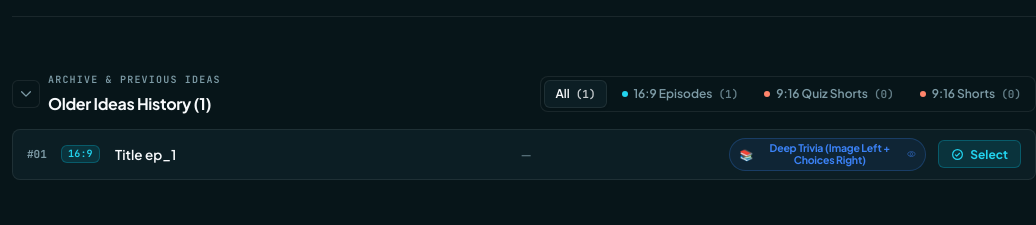
Test: TopicHistorySection › renders empty filter state when no topics match the chosen format
Click the tab "9:16 Shorts (0)" at coordinates (970, 94), box [909,80,1032,108]
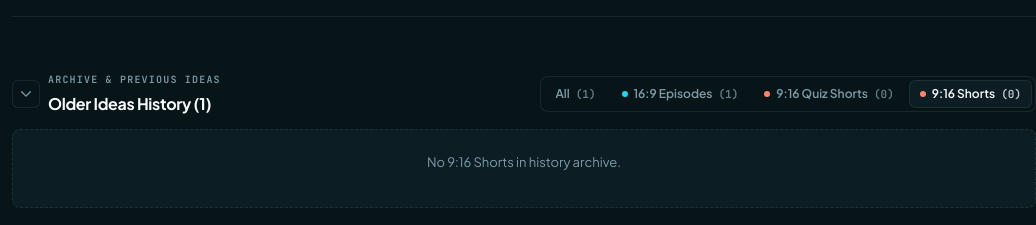
Expected: the text "Title ep_1" is gone
Expected: the text "No 9:16 Shorts in history archive." is shown, [427,154,621,170]
